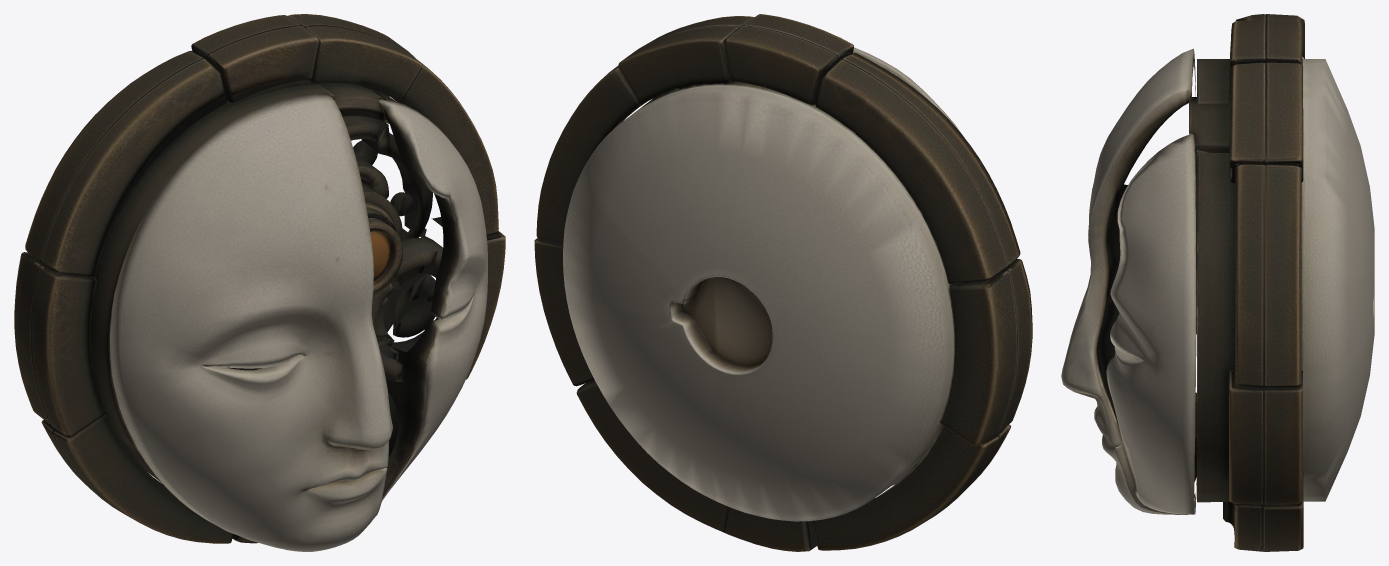
The model's file is story-mask.glb.
3 views of the same model, side by side, from view 1: azimuth 30°, elevation 25°; view 2: azimuth 150°, elevation 25°; view 3: azimuth 270°, elevation 25° (orthographic). The views are drawn at different scales.
Visible parts, largest first — view 1: tripo_31b55d12_4a94_417c_8a97_e9d3221f07ff; view 2: tripo_31b55d12_4a94_417c_8a97_e9d3221f07ff; view 3: tripo_31b55d12_4a94_417c_8a97_e9d3221f07ff.
Part boxes in pixels (box(x1,y1,x2,y2)): tripo_31b55d12_4a94_417c_8a97_e9d3221f07ff: box(14, 14, 505, 551); tripo_31b55d12_4a94_417c_8a97_e9d3221f07ff: box(534, 14, 1032, 551); tripo_31b55d12_4a94_417c_8a97_e9d3221f07ff: box(1061, 14, 1374, 551).
Size of the model in its own units: 0.9702 by 0.9995 by 0.5806.
Materials: 1 (1 with a texture image).
